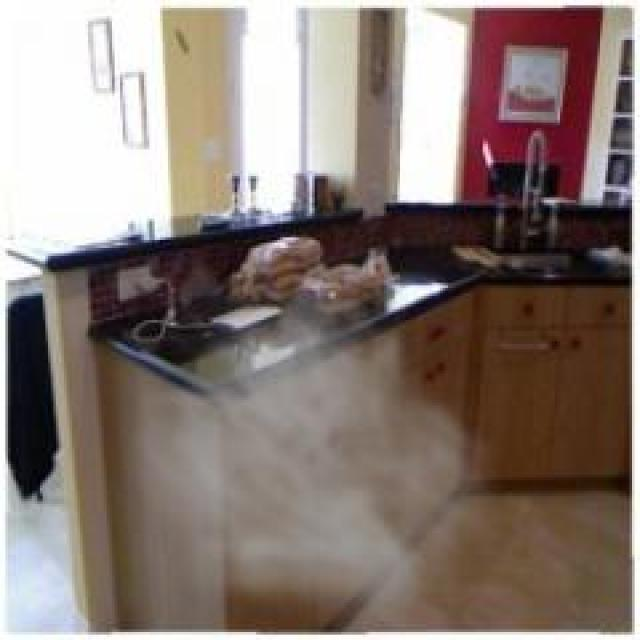smoke: (114, 247, 510, 629)
